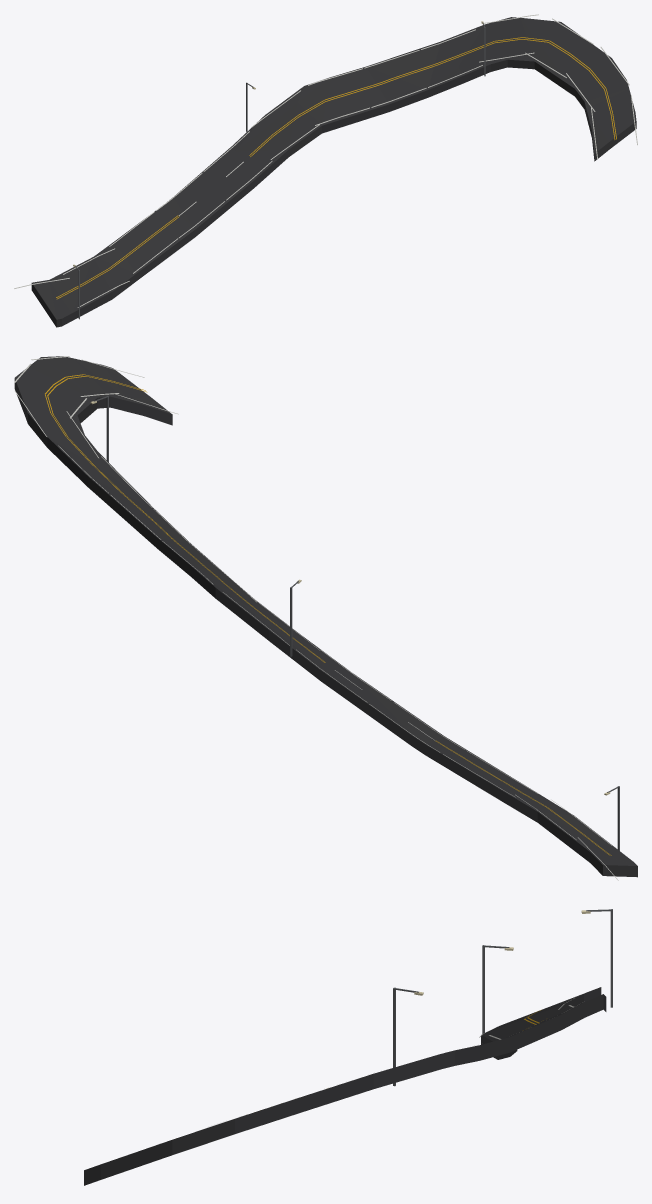
The model's file is 17-109399-59472.bc212fff.glb.
3 renders of one model, top to bottom at view 1: azimuth 30°, elevation 25°; view 2: azimuth 150°, elevation 25°; view 3: azimuth 270°, elevation 25°, orthographic. The views are drawn at different scales.
Size of the model in its own units: 81.01 by 34.17 by 40.4.
